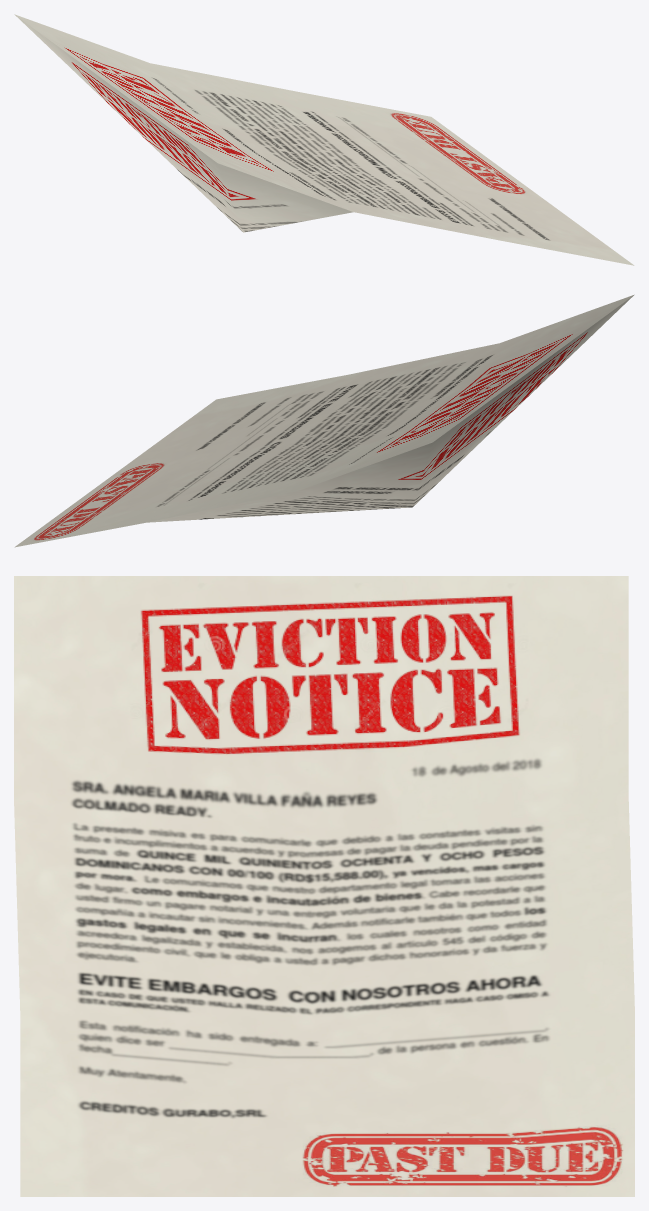
Rendered from CARTA2.fbx.
The picture shows the model from 3 angles, top to bottom: view 1: azimuth 30°, elevation 25°; view 2: azimuth 150°, elevation 25°; view 3: azimuth 270°, elevation 25°; orthographic projection. The views are drawn at different scales.
Visible parts, largest first — view 1: CARTA2; view 2: CARTA2; view 3: CARTA2.
Boxes of the visible parts, box(x1,y1,x2,y2) form: CARTA2: box(14, 14, 634, 265); CARTA2: box(14, 294, 634, 547); CARTA2: box(14, 576, 634, 1196).
Size of the model in its own units: 31.91 by 15.01 by 27.1.
